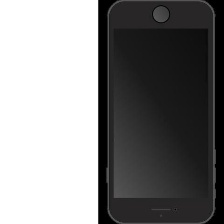phone: (102, 0, 217, 224)
